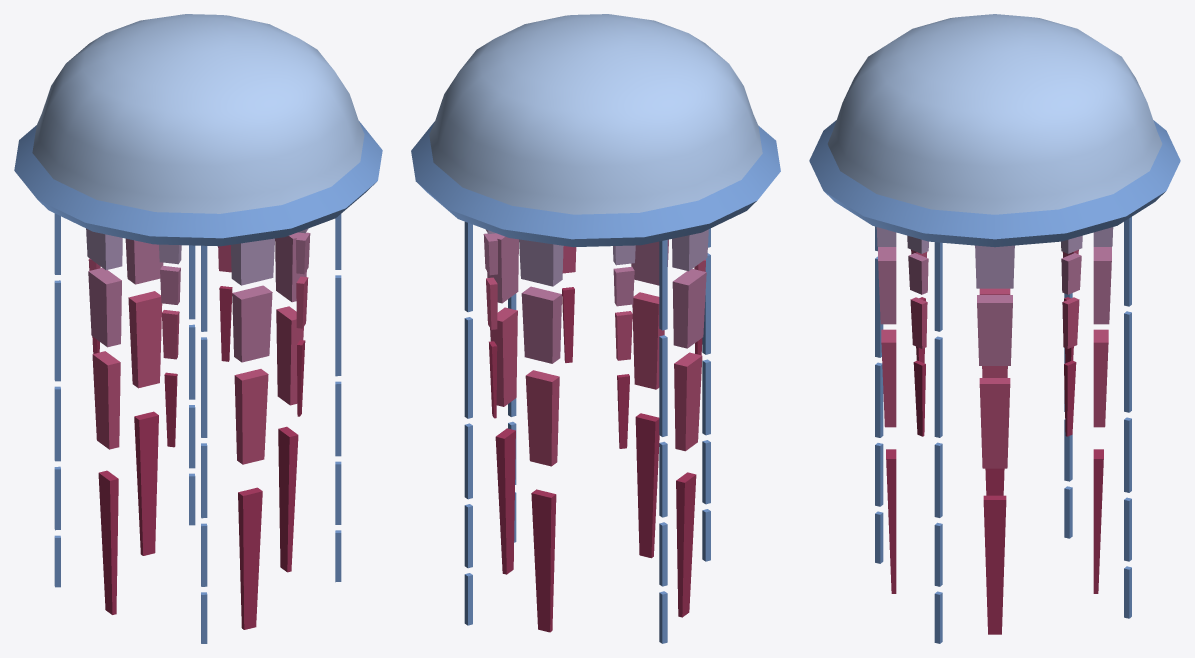
Rendered from jellyfish.fbx.
3 renders of one model, left to right at view 1: azimuth 30°, elevation 25°; view 2: azimuth 150°, elevation 25°; view 3: azimuth 270°, elevation 25°, orthographic.
Parts seen in each view (by area): view 1: head, tentaclepinkbigC3, tentaclepinkbigC4, tentaclepinkbigA3, tentaclepinkbigA4, tentaclepinkbigA2, tentaclepinkbigB3, tentaclepinkbigD4, tentaclepinkbigB2, tentaclepinkbigB4, tentaclepinkbigD3, tentaclepinkbigA1 (+18 smaller); view 2: head, tentaclepinkbigA4, tentaclepinkbigC3, tentaclepinkbigC4, tentaclepinkbigC2, tentaclepinkbigA3, tentaclepinkbigB3, tentaclepinkbigD4, tentaclepinkbigB2, tentaclepinkbigB4, tentaclepinkbigD3, tentaclepinkbigC1 (+20 smaller); view 3: head, tentaclepinkbigD4, tentaclepinkbigD3, tentaclepinkbigD2, tentaclepinkbigD1, tentaclepinkbigC3, tentaclepinkbigA3, tentaclepinkbigC2, tentaclepinkbigA2, tentaclepinkbigC4, tentaclepinkbigA4, tentacleblueD2 (+17 smaller).
Part boxes in pixels (left/top/right/bottom): head: left=14, top=14, right=382, bottom=246; tentaclepinkbigC3: left=128, top=291, right=162, bottom=388; tentaclepinkbigC4: left=134, top=411, right=158, bottom=555; tentaclepinkbigA3: left=234, top=369, right=268, bottom=464; tentaclepinkbigA4: left=238, top=487, right=262, bottom=629; tentaclepinkbigA2: left=232, top=285, right=272, bottom=362; tentaclepinkbigB3: left=92, top=351, right=120, bottom=449; tentaclepinkbigD4: left=278, top=426, right=298, bottom=572; tentaclepinkbigB2: left=88, top=268, right=121, bottom=347; tentaclepinkbigB4: left=98, top=470, right=118, bottom=614; tentaclepinkbigD3: left=276, top=306, right=303, bottom=405; tentaclepinkbigA1: left=231, top=238, right=274, bottom=285; head: left=411, top=14, right=780, bottom=247; tentaclepinkbigA4: left=635, top=413, right=659, bottom=558; tentaclepinkbigC3: left=525, top=370, right=559, bottom=466; tentaclepinkbigC4: left=531, top=489, right=556, bottom=632; tentaclepinkbigC2: left=521, top=286, right=561, bottom=363; tentaclepinkbigA3: left=632, top=292, right=664, bottom=389; tentaclepinkbigB3: left=674, top=352, right=702, bottom=451; tentaclepinkbigD4: left=495, top=428, right=515, bottom=574; tentaclepinkbigB2: left=672, top=269, right=706, bottom=348; tentaclepinkbigB4: left=676, top=472, right=696, bottom=617; tentaclepinkbigD3: left=490, top=307, right=517, bottom=406; tentaclepinkbigC1: left=519, top=239, right=563, bottom=286; head: left=809, top=14, right=1180, bottom=247; tentaclepinkbigD4: left=983, top=495, right=1006, bottom=634; tentaclepinkbigD3: left=979, top=378, right=1010, bottom=468; tentaclepinkbigD2: left=977, top=295, right=1012, bottom=365; tentaclepinkbigD1: left=975, top=245, right=1014, bottom=288; tentaclepinkbigC3: left=1093, top=329, right=1108, bottom=427; tentaclepinkbigA3: left=881, top=329, right=896, bottom=427; tentaclepinkbigC2: left=1093, top=247, right=1111, bottom=324; tentaclepinkbigA2: left=878, top=247, right=896, bottom=324; tentaclepinkbigC4: left=1093, top=449, right=1103, bottom=593; tentaclepinkbigA4: left=886, top=449, right=896, bottom=593; tentacleblueD2: left=934, top=336, right=942, bottom=437.
Bounding box in the file's own units: 143 × 235 × 143.
